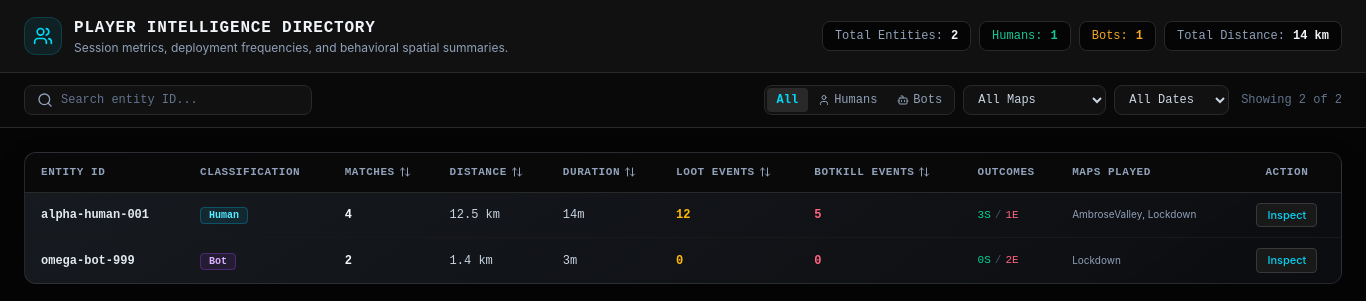
Test: PlayerIntelligencePage › searches by user ID substring
Check: the text "alpha-human-001" is shown, box [25, 192, 188, 238]
placeholder is "Search entity ID..."
Type "omega" into the field with placeholder "Search entity ID...".
click(180, 100); type("omega")  # box [61, 92, 299, 108]
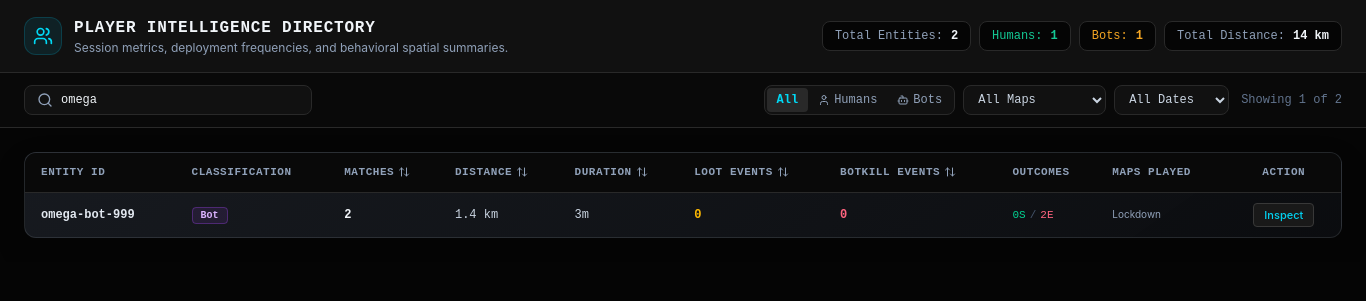
Check: the text "omega-bot-999" is shown, box [25, 192, 180, 237]
Check: the text "alpha-human-001" is gone
